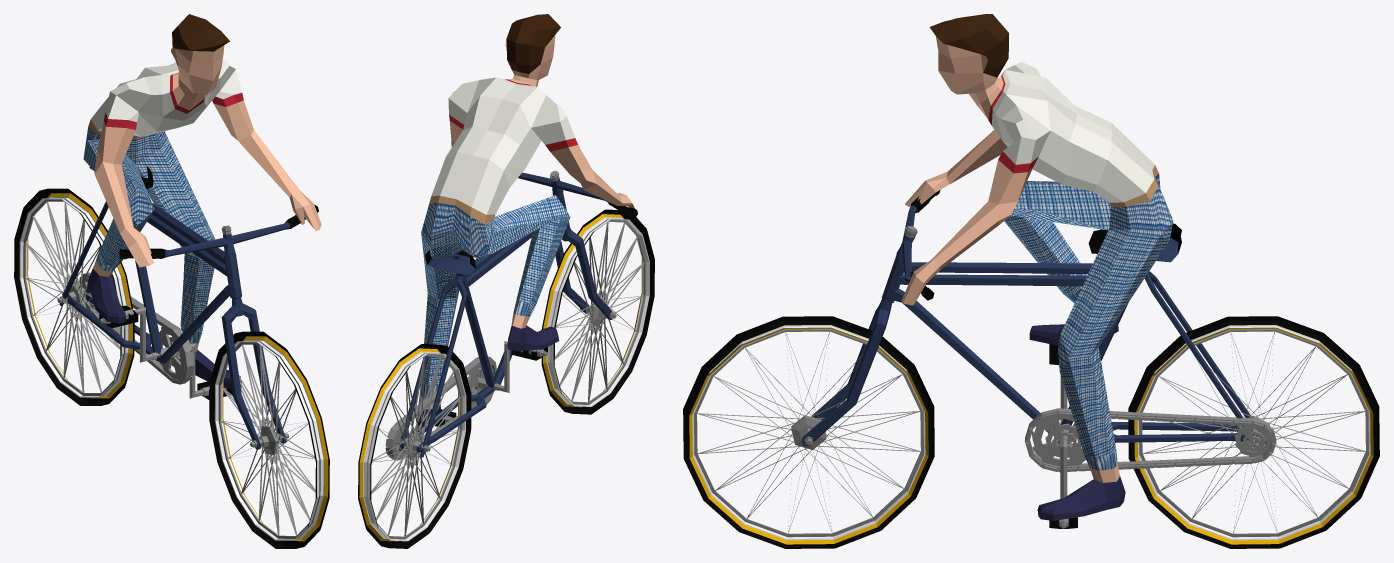
File: SpringManB.001.glb
3 renders of one model, left to right at view 1: azimuth 30°, elevation 25°; view 2: azimuth 150°, elevation 25°; view 3: azimuth 270°, elevation 25°, orthographic. The views are drawn at different scales.
Visible parts, largest first — view 1: SpringManB.001; view 2: SpringManB.001; view 3: SpringManB.001.
Part boxes in pixels (x1,y1,x2,y2): SpringManB.001: [14, 14, 329, 548]; SpringManB.001: [358, 14, 654, 548]; SpringManB.001: [683, 14, 1379, 548].
Size of the model in its own units: 0.7301 by 1.66 by 1.97.
Materials: 6 (1 with a texture image).
